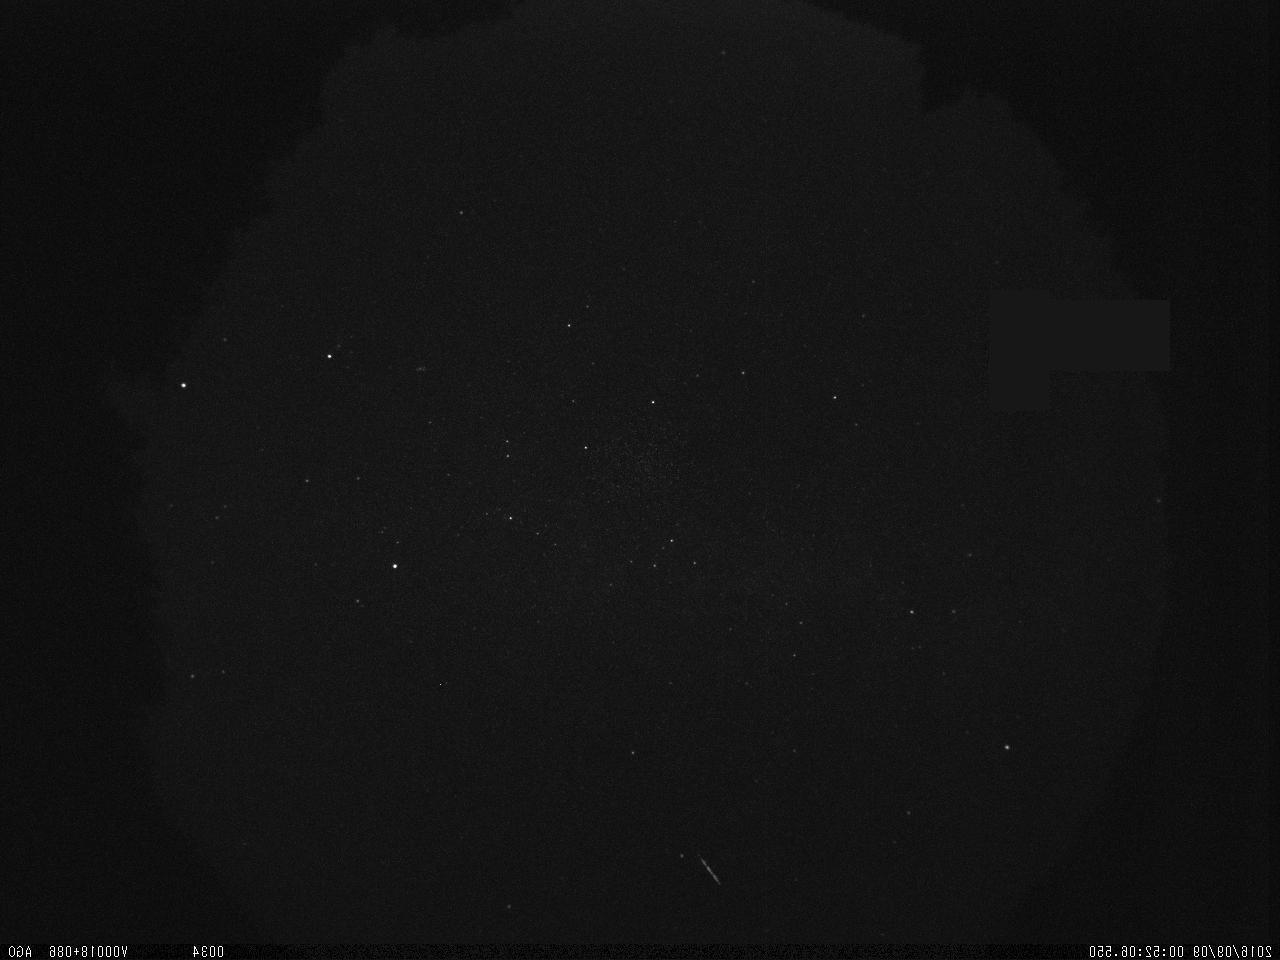meteor: (693, 845, 726, 895)
